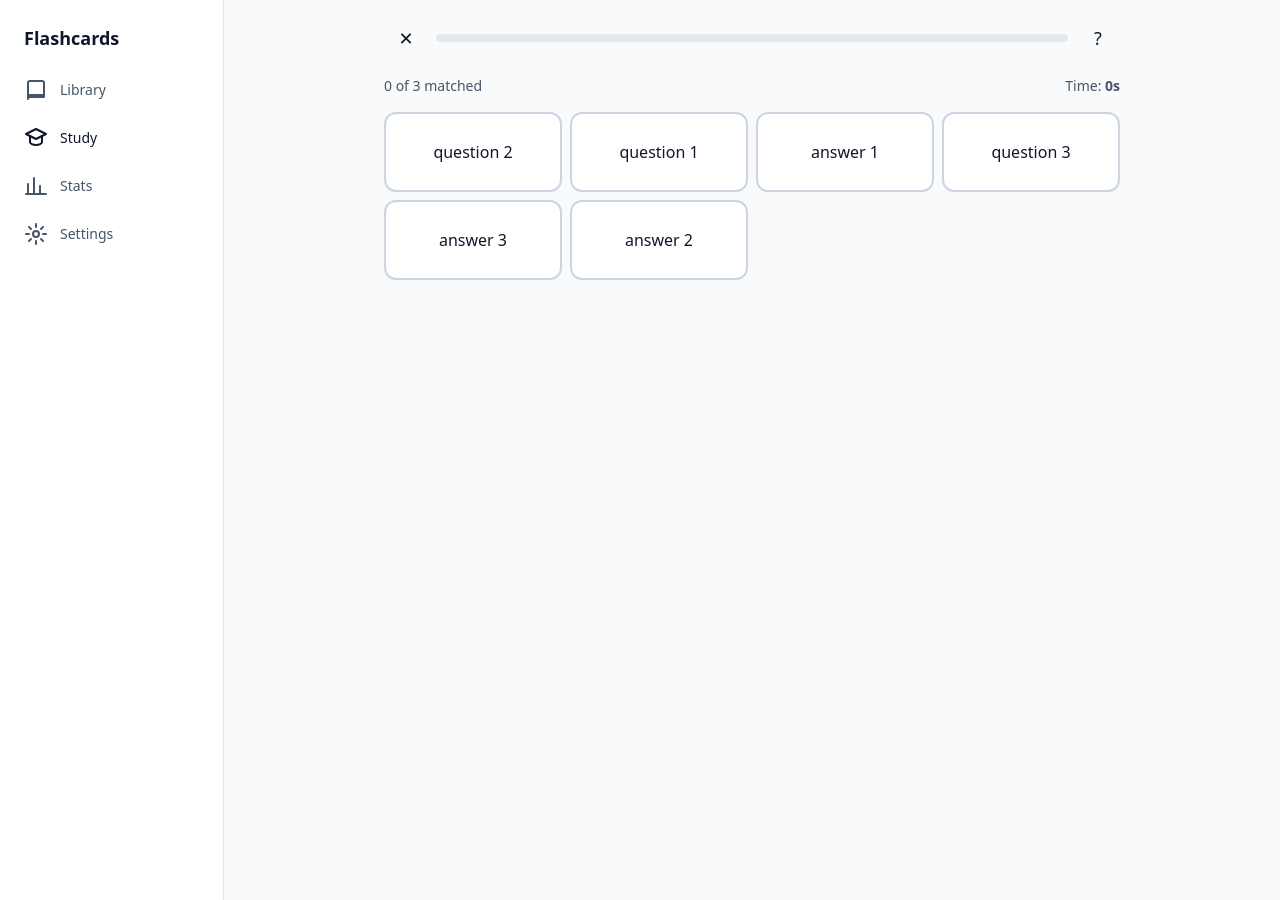
trouble detection outside Learn › a pair matched after a wrong try flags the card
This screenshot has width=1280, height=900.
Expected: the element named "Matching tiles" is shown, [384, 112, 1120, 280]
Click the button "question 2". click: (473,152)
box: [384, 112, 562, 192]
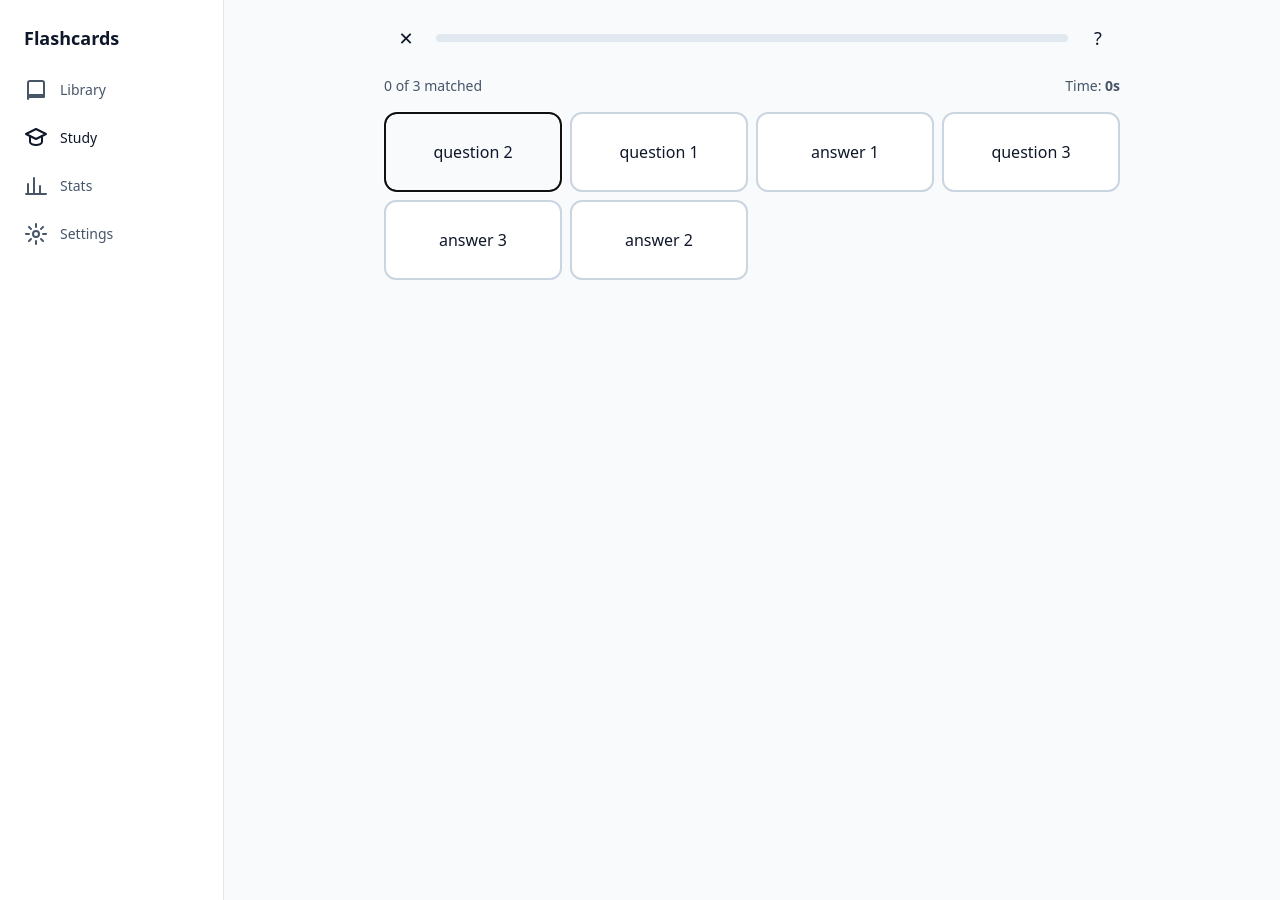
Click the button "answer 3". click: (473,240)
box: [384, 200, 562, 280]
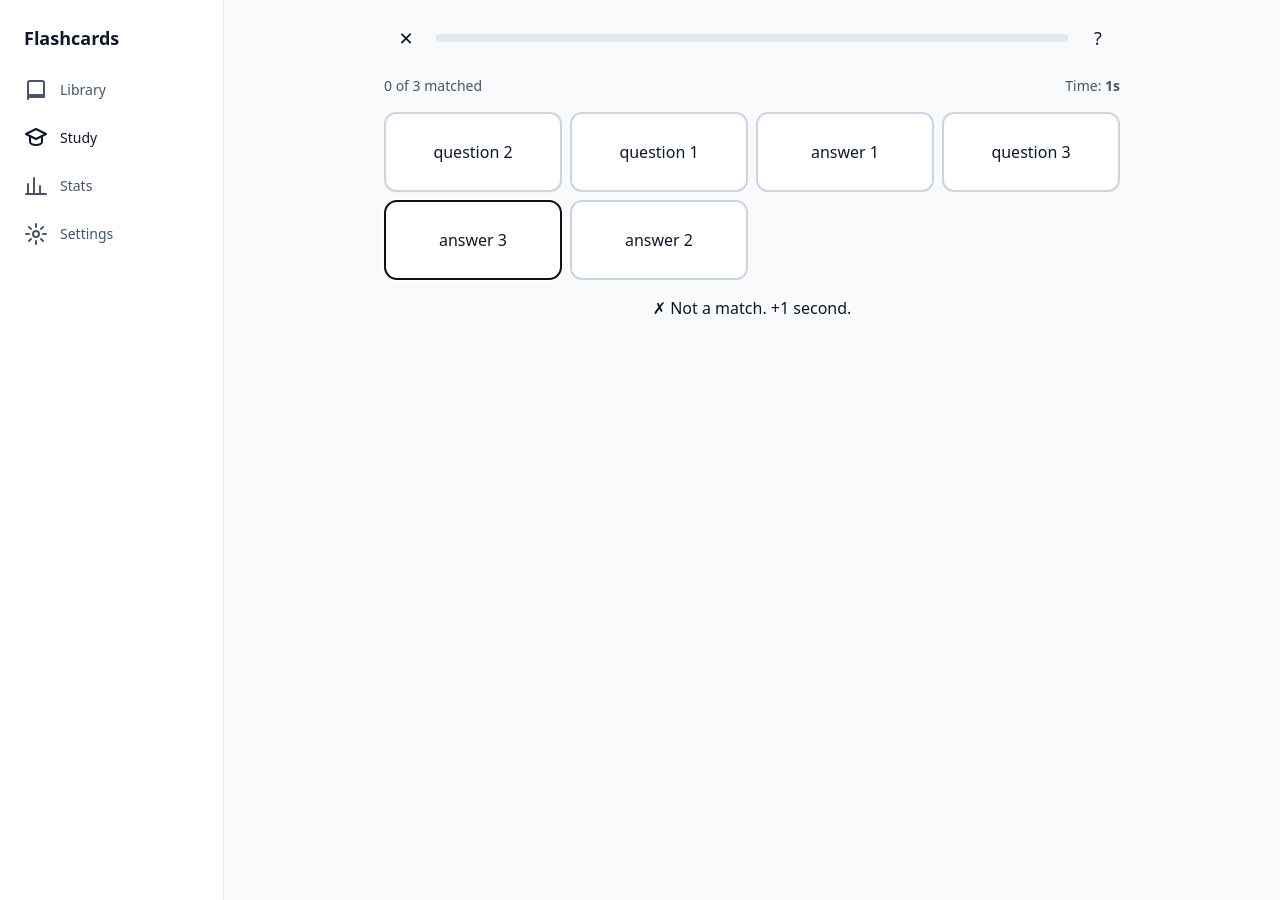
Click the button "question 2". click: (473,152)
box: [384, 112, 562, 192]
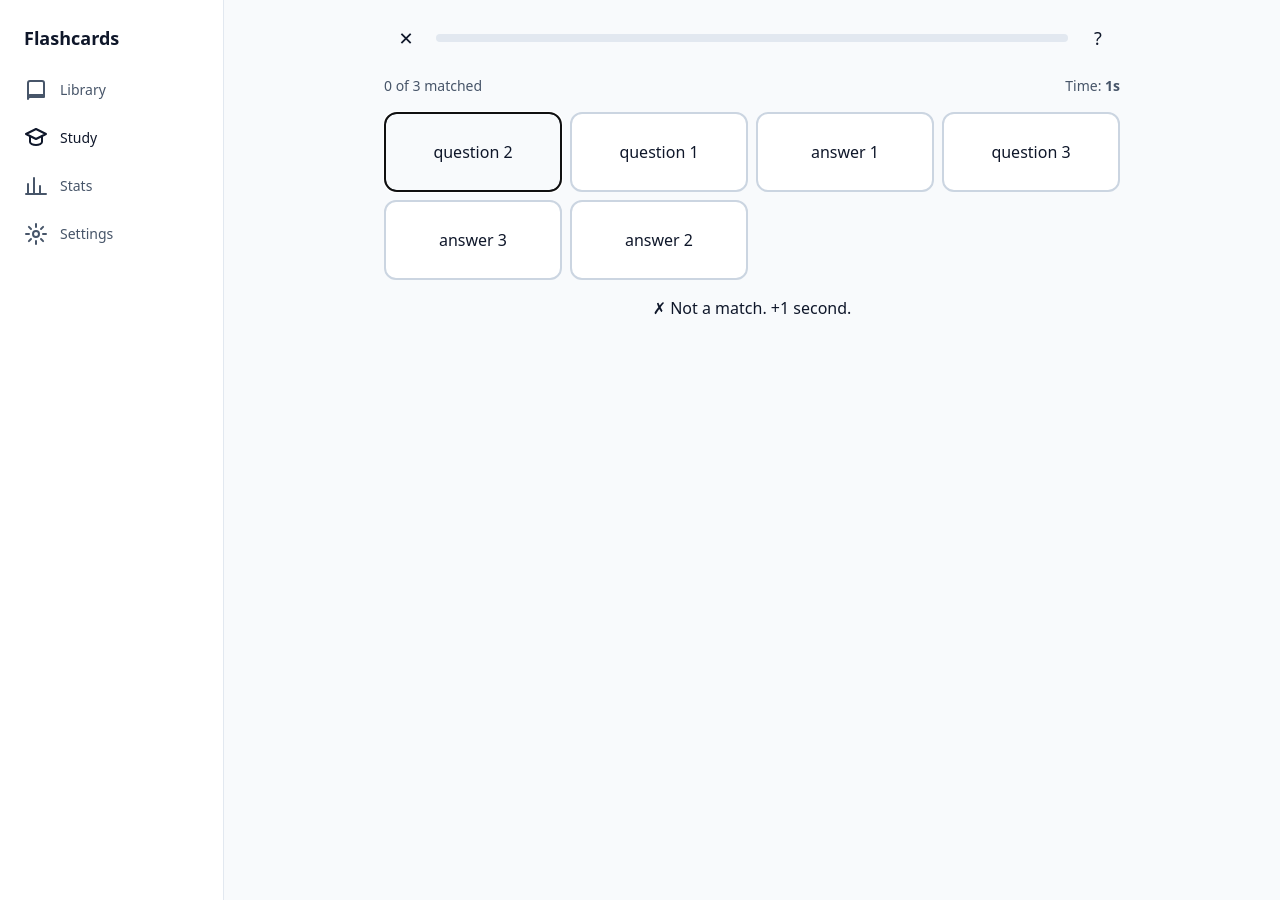
Click the button "answer 2". click: (659,240)
box: [570, 200, 748, 280]
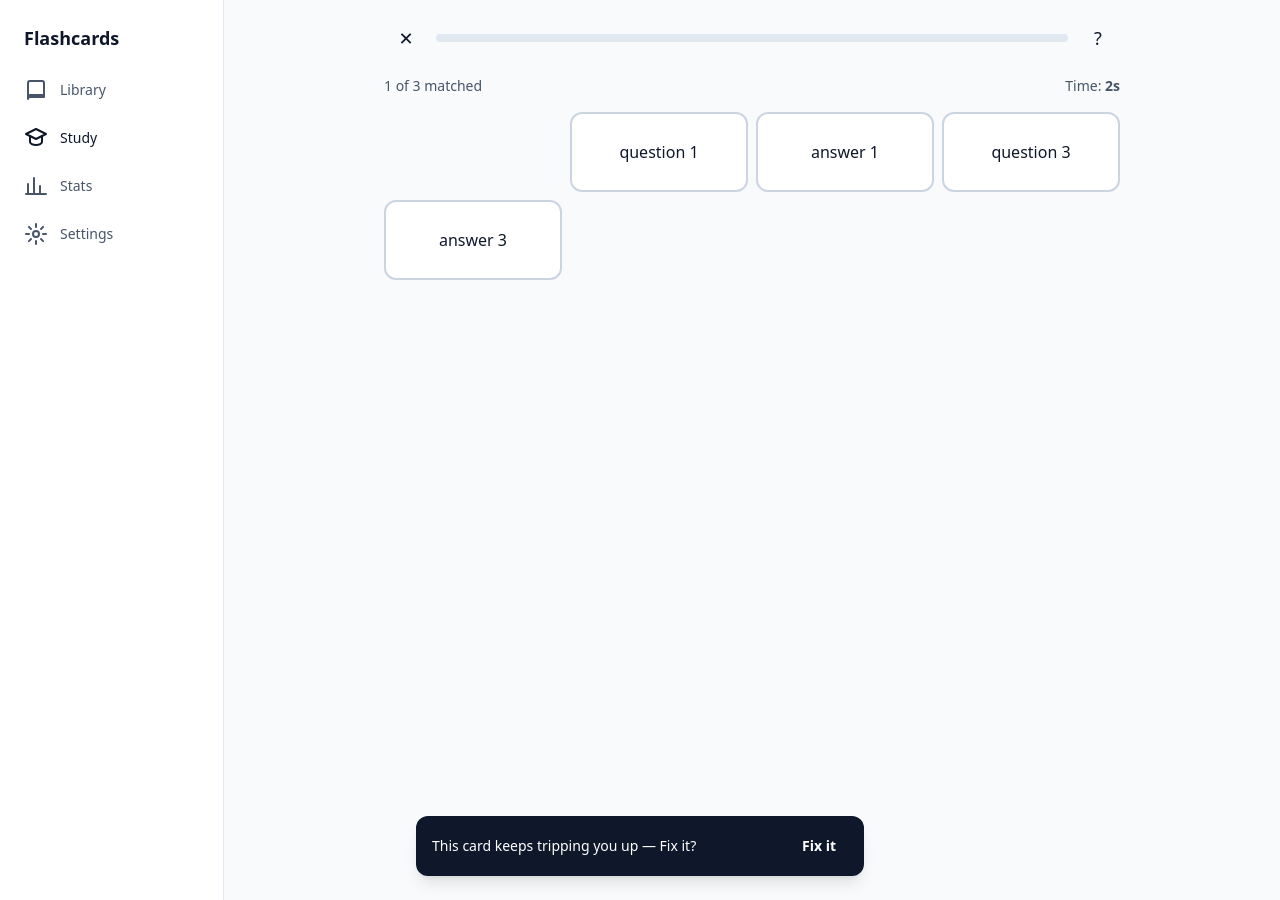
Expected: the text "This card keeps tripping you up — Fix it?" is shown, [432, 836, 696, 856]
